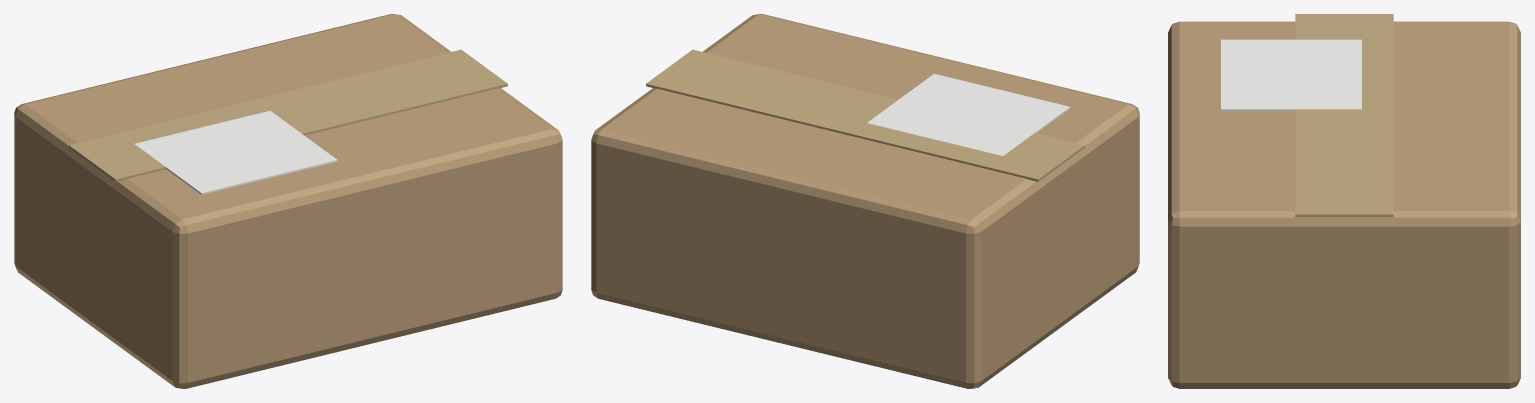
Rendered from libiao_parcel_box_xs.fbx.
3 renders of one model, left to right at view 1: azimuth 30°, elevation 25°; view 2: azimuth 150°, elevation 25°; view 3: azimuth 270°, elevation 25°, orthographic. The views are drawn at different scales.
Visible parts, largest first — view 1: Parcel_box_xs; view 2: Parcel_box_xs; view 3: Parcel_box_xs.
Part boxes in pixels (x1,y1,x2,y2): Parcel_box_xs: [14, 14, 562, 388]; Parcel_box_xs: [591, 14, 1139, 388]; Parcel_box_xs: [1168, 14, 1520, 388].
Bounding box in the file's own units: 0.242 × 0.1013 × 0.18.
